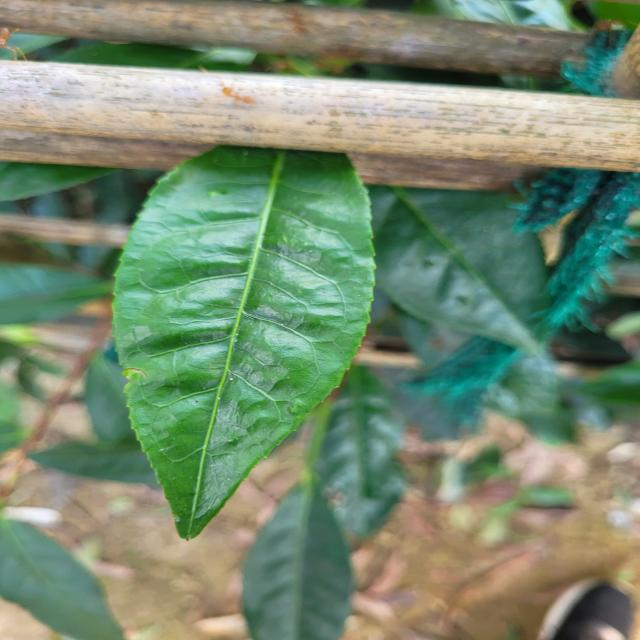Category D(7+ days, Not for Tea): (104, 116, 394, 545)
